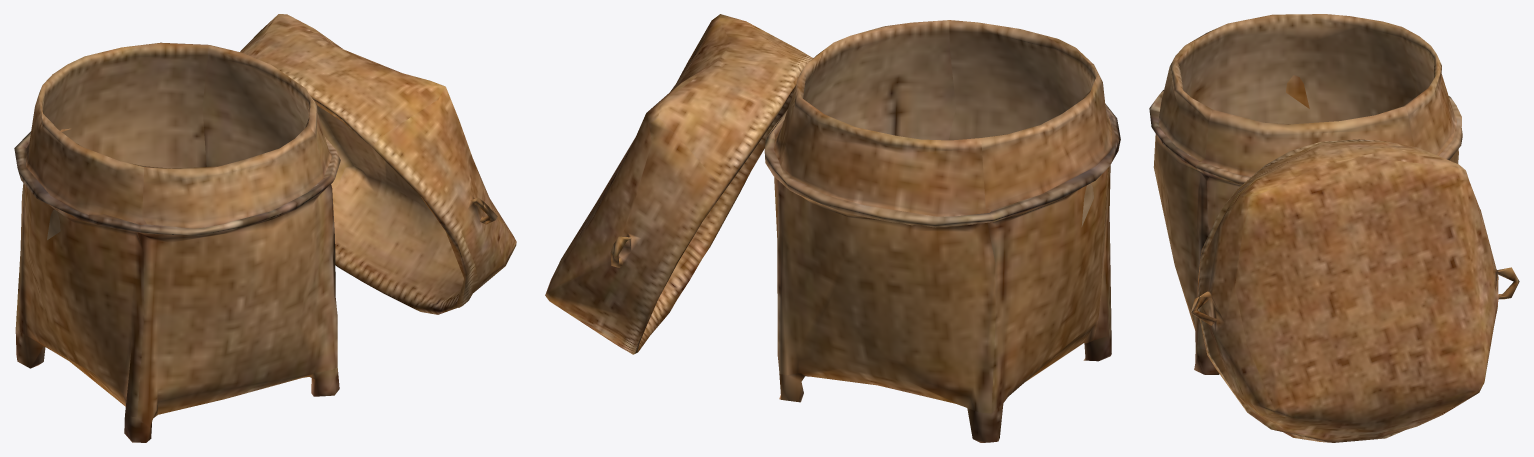
File: wicker_basket_02.glb
3 renders of one model, left to right at view 1: azimuth 30°, elevation 25°; view 2: azimuth 150°, elevation 25°; view 3: azimuth 270°, elevation 25°, orthographic. The views are drawn at different scales.
Parts seen in each view (by area): view 1: wicker_basket_02_base, wicker_basket_02_lid; view 2: wicker_basket_02_base, wicker_basket_02_lid; view 3: wicker_basket_02_lid, wicker_basket_02_base.
Part boxes in pixels (x1,y1,x2,y2): wicker_basket_02_base: (14,42,340,442); wicker_basket_02_lid: (240,14,516,314); wicker_basket_02_base: (764,20,1120,442); wicker_basket_02_lid: (545,14,812,354); wicker_basket_02_lid: (1190,139,1519,442); wicker_basket_02_base: (1149,14,1462,374).
Size of the model in its own units: 0.3454 by 0.2004 by 0.2534.
Materials: 1 (1 with a texture image).
